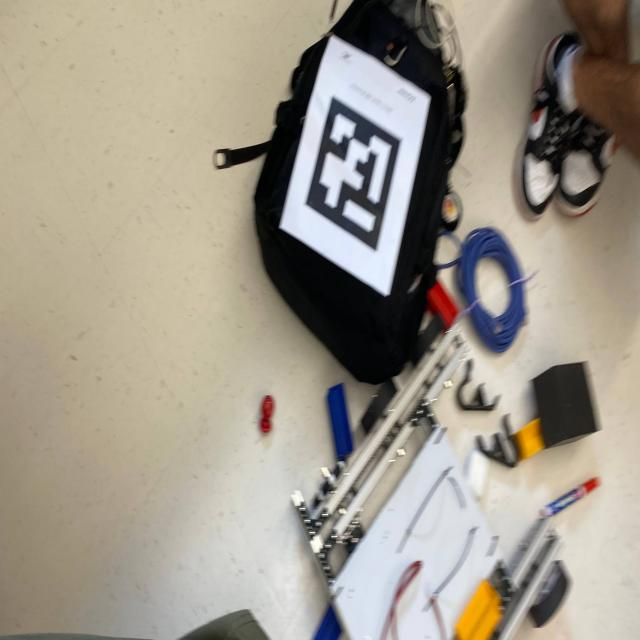blue-specimen: (327, 383, 354, 461), (313, 605, 341, 640)
red-specimen: (426, 279, 459, 331)
yellow-specimen: (455, 580, 502, 640), (513, 418, 545, 462)
